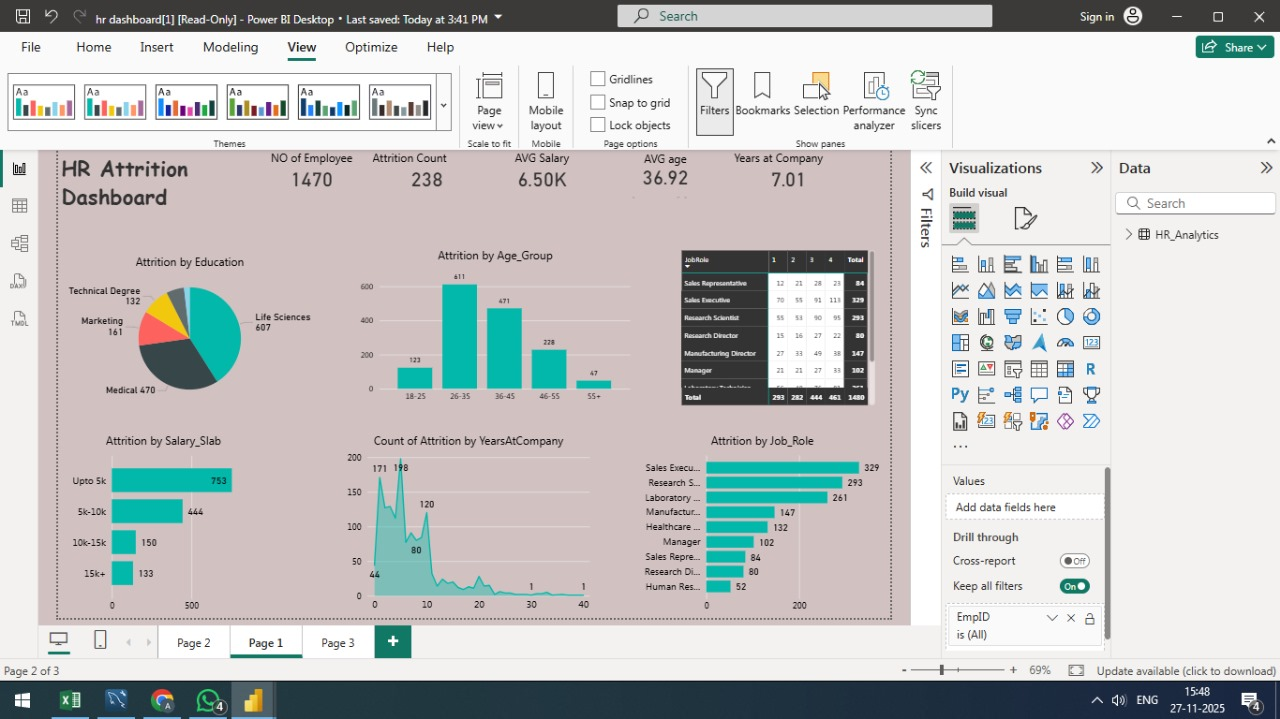

What the dashboard file says about the page in this screenshot:
{"tool":"powerbi","page":{"name":"Page 1","canvas":[1280,720],"ordinal":1},"visuals":[{"type":"clusteredColumnChart","title":" Attrition by Age_Group","fields":{"Y":["CountNonNull(HR_Analytics.Attrition)"],"Category":["HR_Analytics.AgeGroup"]},"box":[459.4,149.8,424.8,247.7],"z":0},{"type":"pieChart","title":"Attrition by Education","fields":{"Y":["CountNonNull(HR_Analytics.Attrition)"],"Category":["HR_Analytics.EducationField"]},"box":[0,159.8,404.6,237.6],"z":1000},{"type":"clusteredBarChart","title":"Attrition by Salary_Slab","fields":{"Category":["HR_Analytics.SalarySlab"],"Y":["CountNonNull(HR_Analytics.Attrition)"]},"box":[11.5,434.9,301,285.1],"z":2000},{"type":"areaChart","fields":{"Category":["HR_Analytics.YearsAtCompany"],"Y":["CountNonNull(HR_Analytics.Attrition)"]},"box":[439.2,434.9,383,285.1],"z":3000},{"type":"clusteredBarChart","title":" Attrition by Job_Role","fields":{"Y":["CountNonNull(HR_Analytics.Attrition)"],"Category":["HR_Analytics.JobRole"]},"box":[884.2,434.9,396,285.1],"z":4000},{"type":"pivotTable","fields":{"Rows":["HR_Analytics.JobRole"],"Columns":["HR_Analytics.JobSatisfaction"],"Values":["CountNonNull(HR_Analytics.attrition count)"]},"box":[953.3,149.8,306.7,247.7],"z":5000},{"type":"card","title":"Attrition Count","fields":{"Values":["Sum(HR_Analytics.attrition count)"]},"box":[478.1,0,177.1,63.4],"z":6000},{"type":"card","title":"AVG age","fields":{"Values":["Avg(HR_Analytics.Age)"]},"box":[832.3,1.4,201.6,77.8],"z":7000},{"type":"card","title":"AVG Salary","fields":{"Values":["Avg(HR_Analytics.MonthlyIncome)"]},"box":[655.2,0,177.1,63.4],"z":8000},{"type":"card","title":"NO of Employee","fields":{"Values":["Count(HR_Analytics.EmpID)"]},"box":[301,0,177.1,63.4],"z":9000},{"type":"card","title":"Years at Company","fields":{"Values":["Avg(HR_Analytics.YearsAtCompany)"]},"box":[1033.9,0,177.1,63.4],"z":10000},{"type":"textbox","box":[0,0,273.6,131],"z":11000}]}

Visuals, with their boxes on the page's 1280x720 design canvas (x1, y1, x2, y2). These are canvas units, not pixel positions in the 1280x719 screenshot, which may show the page scaled, cropped or inside an application window:
" Attrition by Age_Group" clusteredColumnChart: x1=459 y1=150 x2=884 y2=398
"Attrition by Education" pieChart: x1=0 y1=160 x2=405 y2=397
"Attrition by Salary_Slab" clusteredBarChart: x1=12 y1=435 x2=312 y2=720
areaChart - HR_Analytics.YearsAtCompany x CountNonNull(HR_Analytics.Attrition): x1=439 y1=435 x2=822 y2=720
" Attrition by Job_Role" clusteredBarChart: x1=884 y1=435 x2=1280 y2=720
pivotTable - HR_Analytics.JobRole x HR_Analytics.JobSatisfaction: x1=953 y1=150 x2=1260 y2=398
"Attrition Count" card: x1=478 y1=0 x2=655 y2=63
"AVG age" card: x1=832 y1=1 x2=1034 y2=79
"AVG Salary" card: x1=655 y1=0 x2=832 y2=63
"NO of Employee" card: x1=301 y1=0 x2=478 y2=63
"Years at Company" card: x1=1034 y1=0 x2=1211 y2=63
textbox: x1=0 y1=0 x2=274 y2=131
